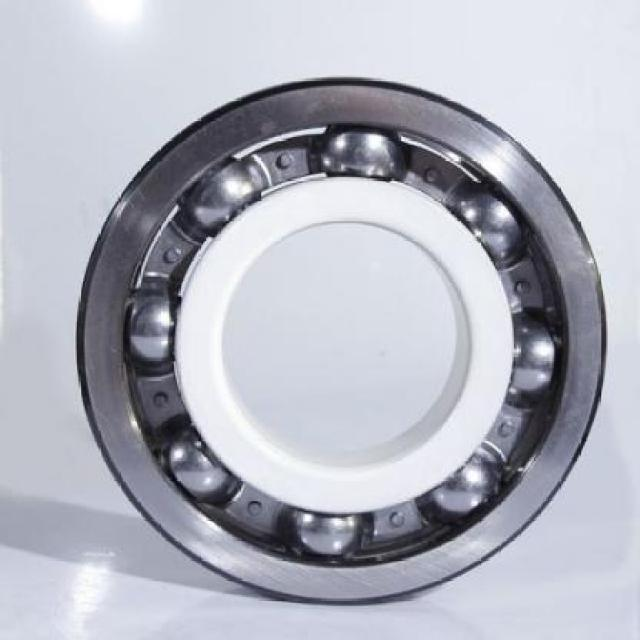Bearing: (73, 74, 609, 606)
